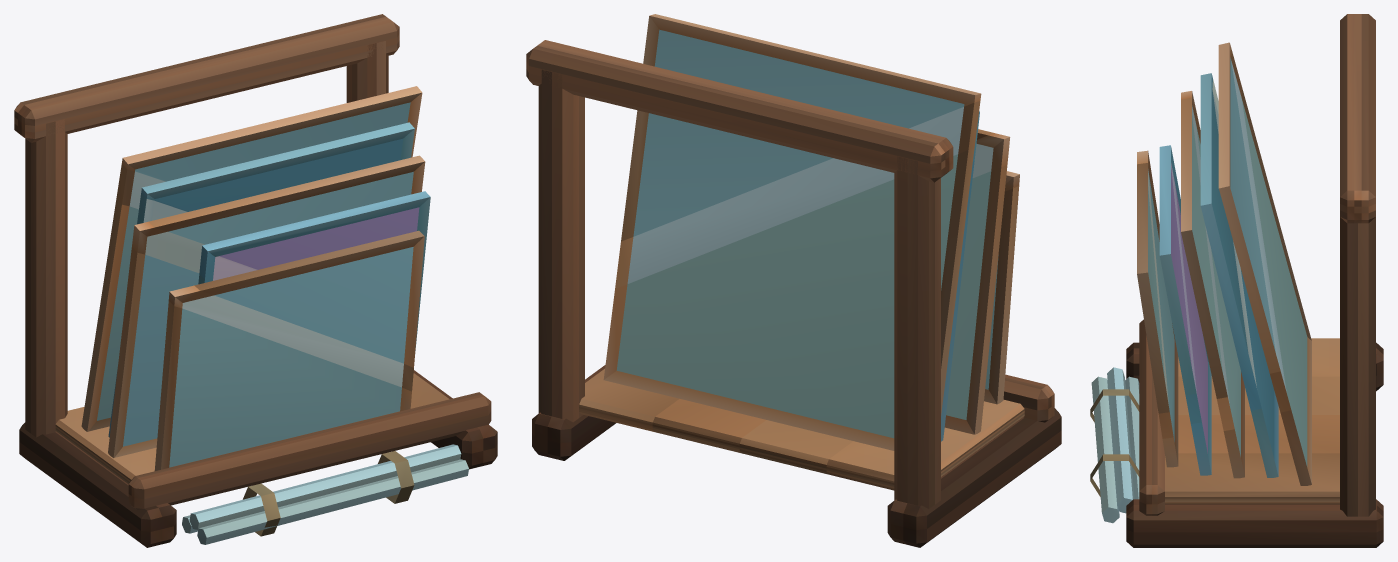
The model's file is glass-panes.hq.glb.
3 views of the same model, side by side, from view 1: azimuth 30°, elevation 25°; view 2: azimuth 150°, elevation 25°; view 3: azimuth 270°, elevation 25° (orthographic). The views are drawn at different scales.
Parts seen in each view (by area): view 1: glass-panes; view 2: glass-panes; view 3: glass-panes.
Boxes of the visible parts, x1,y1,x2,y2 form: glass-panes: (14,14,497,547); glass-panes: (526,14,1061,547); glass-panes: (1090,14,1383,547).
Bounding box in the file's own units: 0.84 × 0.7783 × 0.57.
